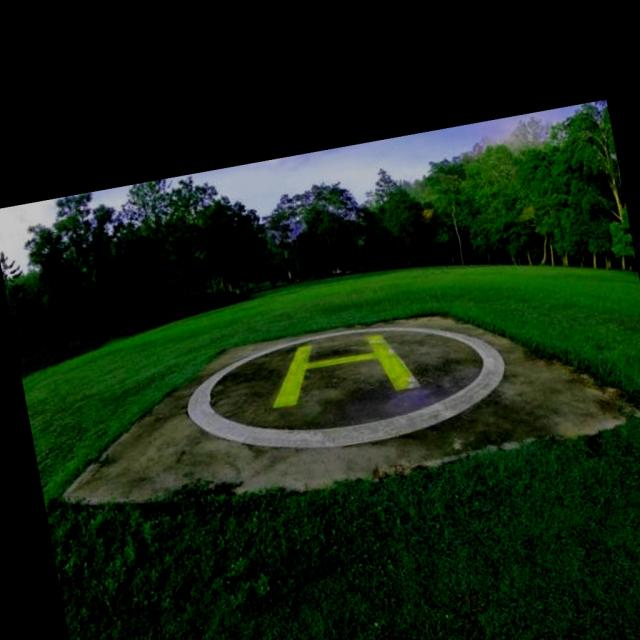helipad: (179, 321, 511, 451)
